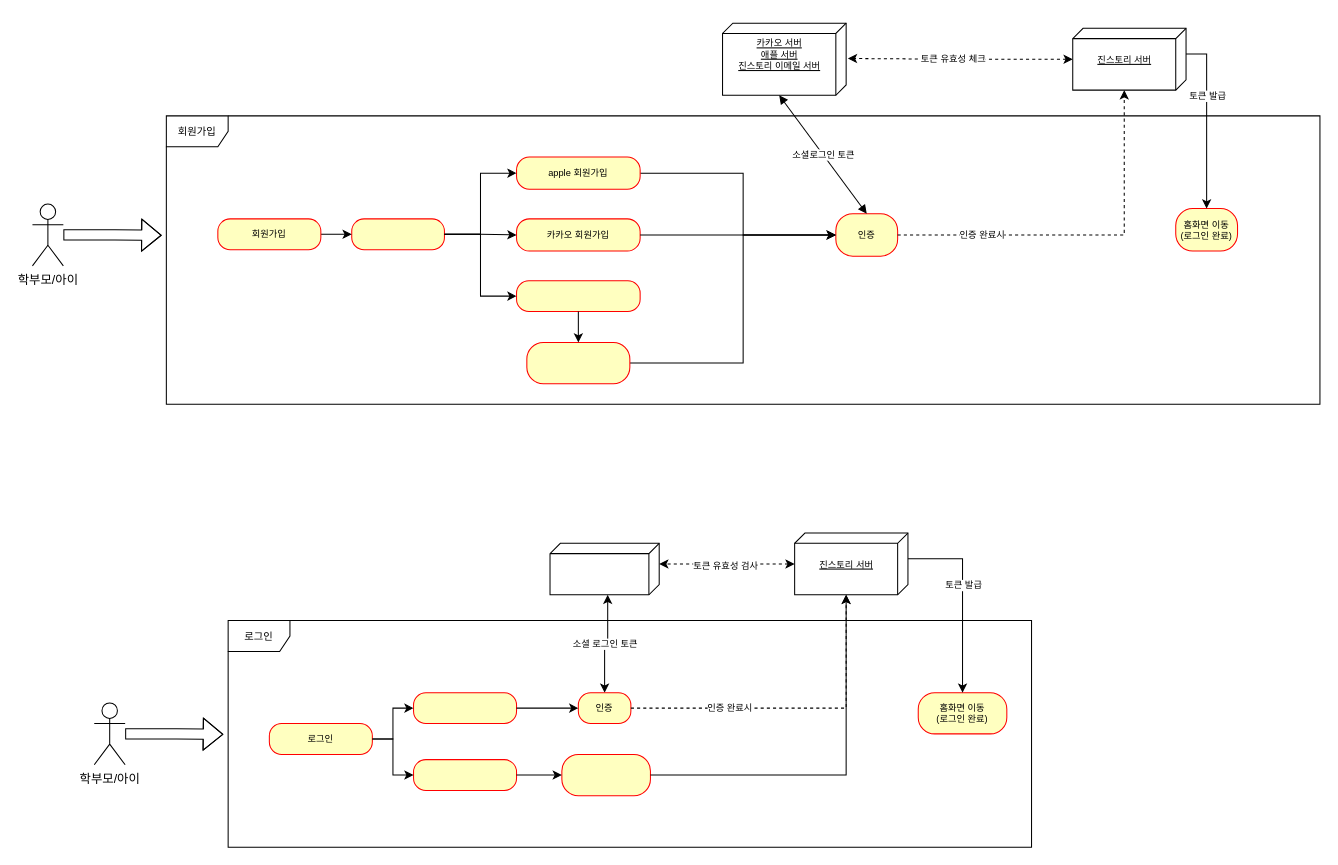
This 1338x865 diagram has some shape labels left out. Each missing label, with the centre of its shape:
"apple/카카오 로그인" belongs at pixel 465 708.
"email/PW 입력" belongs at pixel 605 774.
"서비스 약관 동의" belongs at pixel 397 234.
"이메일 로그인" belongs at pixel 465 775.
"이메일 입력 및 인증 PW 입력" belongs at pixel 578 362.
"이메일 회원가입" belongs at pixel 578 296.
"카카오 서버 애플 서버" belongs at pixel 604 568.
